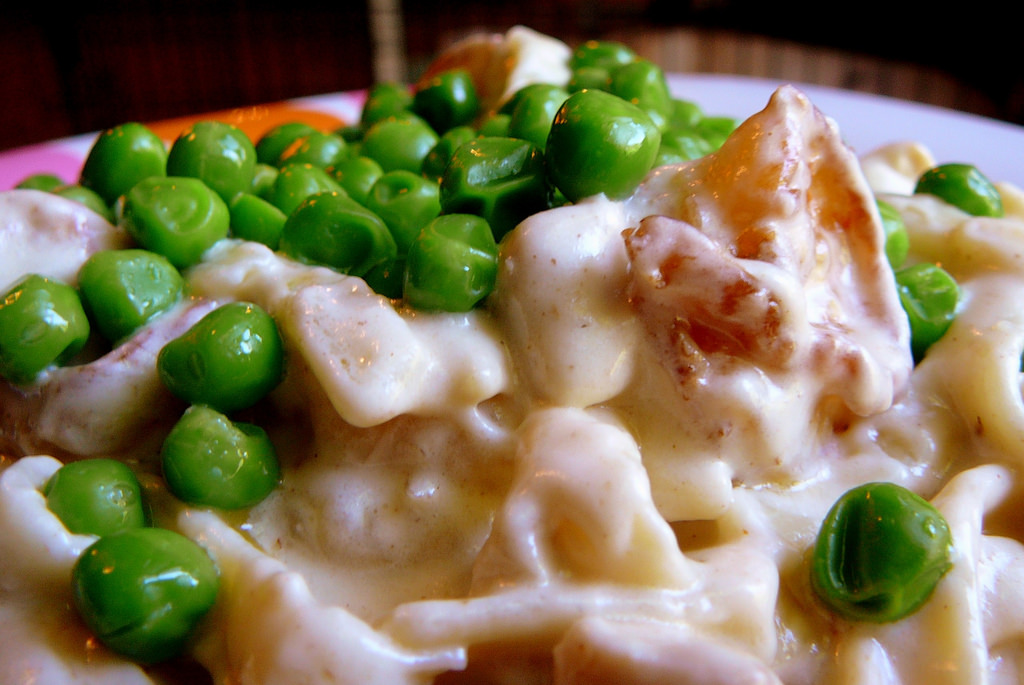boiled peas: (93, 83, 665, 294), (55, 393, 251, 655), (810, 470, 959, 631)
